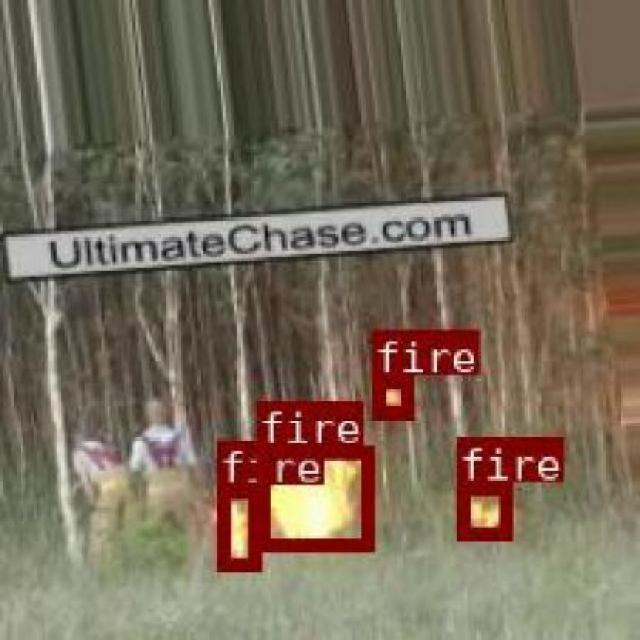fire: (255, 444, 372, 549), (215, 485, 258, 570), (456, 480, 509, 538), (372, 373, 412, 416)
